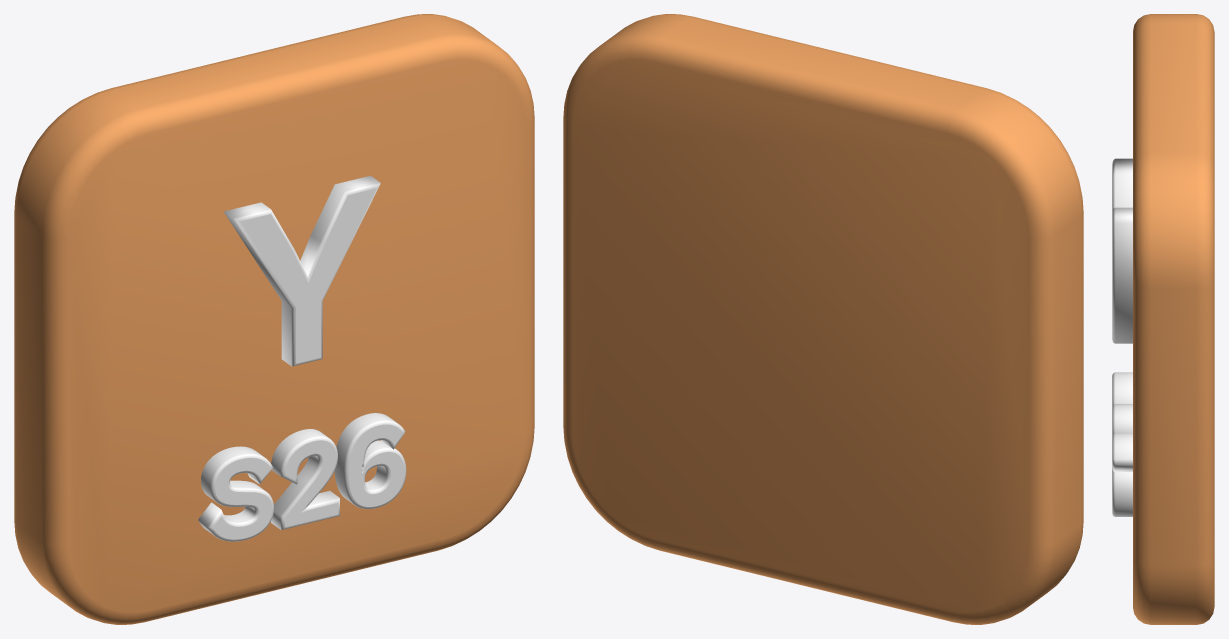
3 renders of one model, left to right at view 1: azimuth 30°, elevation 25°; view 2: azimuth 150°, elevation 25°; view 3: azimuth 270°, elevation 25°, orthographic. The views are drawn at different scales.
Visible parts, largest first — view 1: yc_S26; view 2: yc_S26; view 3: yc_S26.
Part boxes in pixels (x1,y1,x2,y2): yc_S26: (14, 14, 534, 624); yc_S26: (563, 14, 1083, 624); yc_S26: (1112, 14, 1214, 624).
Bounding box in the file's own units: 1 × 1 × 0.2.
